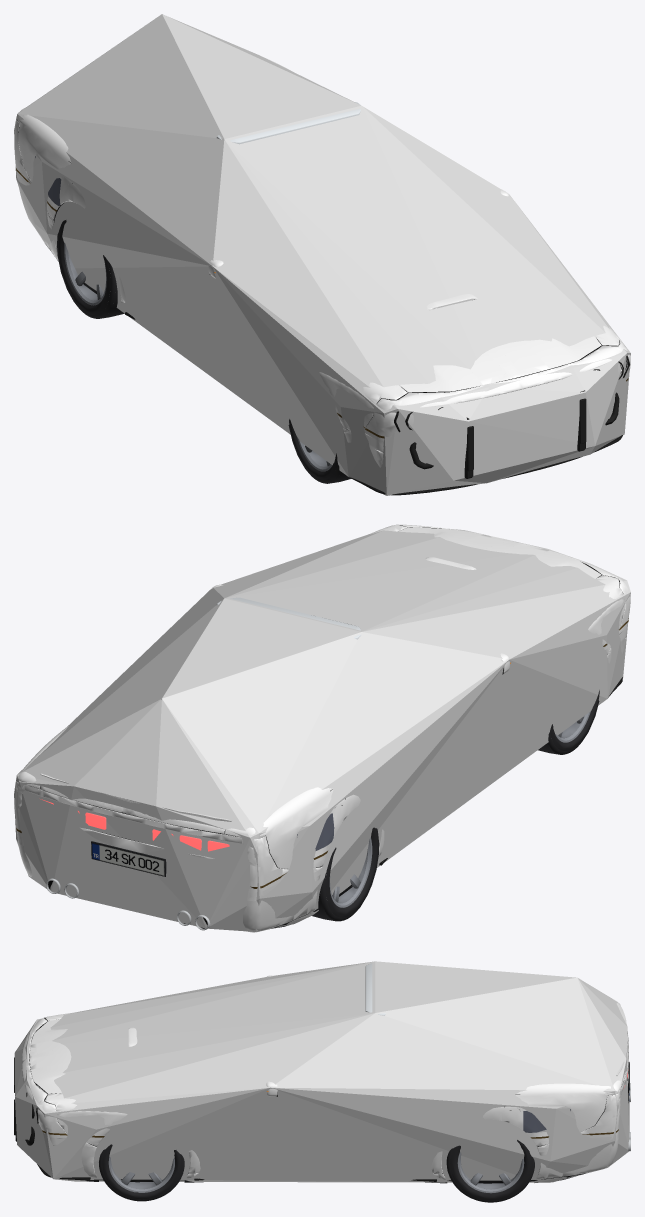
File: police_interceptor_lod0.glb
3 renders of one model, top to bottom at view 1: azimuth 30°, elevation 25°; view 2: azimuth 150°, elevation 25°; view 3: azimuth 270°, elevation 25°, orthographic. The views are drawn at different scales.
Parts seen in each view (by area): view 1: col_body, body, trim, wheel_RR, wheel_FR; view 2: col_body, body, wheel_RR, trim, wheel_FR, plate_rear, lights_rear; view 3: col_body, body, wheel_RL, trim, wheel_FL.
Boxes of the visible parts, x1,y1,x2,y2 form: col_body: (14,14,630,495); body: (14,56,630,467); trim: (16,102,629,495); wheel_RR: (57,220,124,318); wheel_FR: (288,419,351,483); col_body: (14,527,630,931); body: (14,524,630,932); wheel_RR: (312,827,379,921); trim: (16,525,628,928); wheel_FR: (538,690,599,754); plate_rear: (91,843,164,875); lights_rear: (40,799,229,851); col_body: (14,961,629,1182); body: (21,975,628,1179); wheel_RL: (446,1140,534,1202); trim: (14,963,629,1183); wheel_FL: (99,1144,184,1201).
Size of the model in its own units: 2.11 by 1.56 by 4.93.
Materials: 12 (1 with a texture image).
